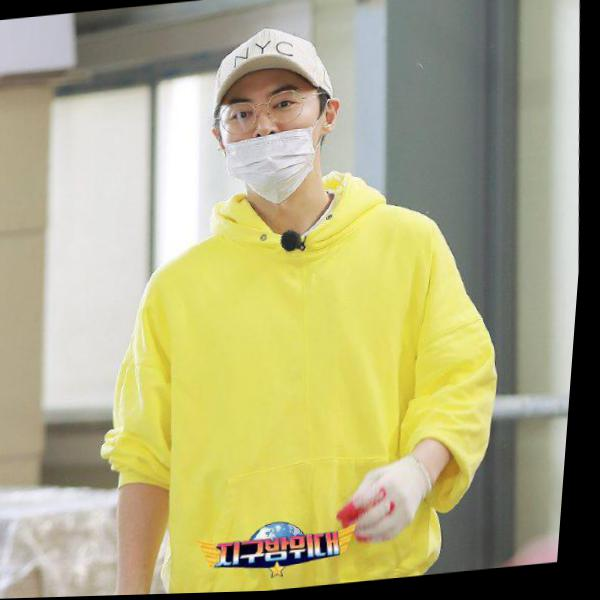WRONG: (214, 80, 331, 206)
